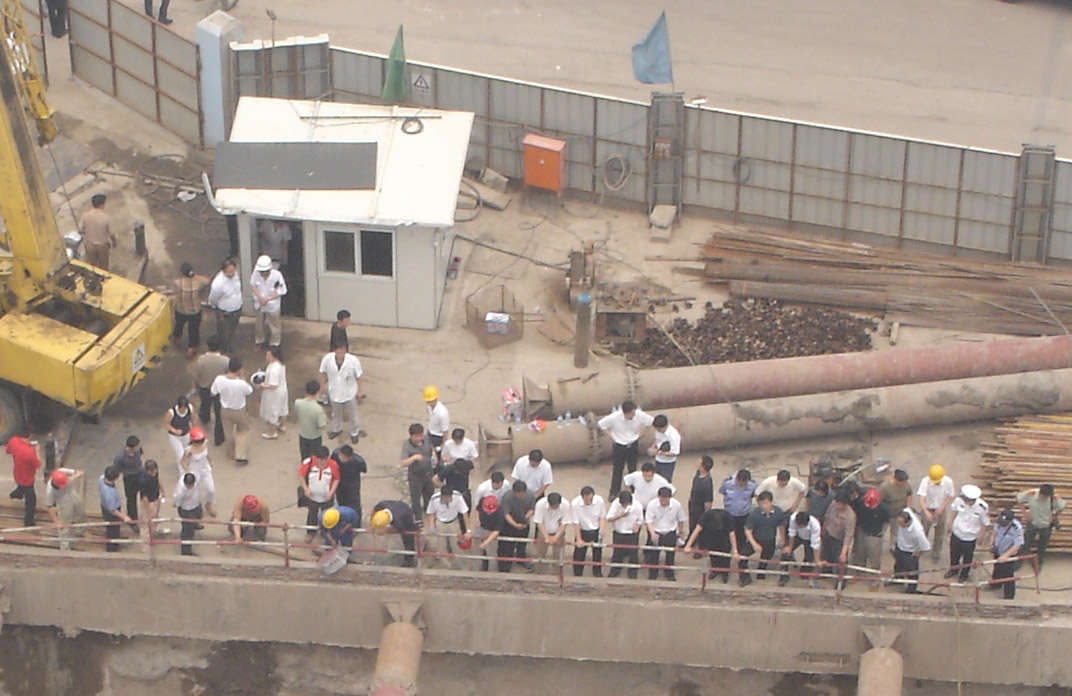none: (16, 420, 36, 442), (693, 454, 712, 474), (638, 462, 656, 482), (620, 400, 638, 420), (303, 379, 321, 399), (313, 444, 331, 464), (962, 483, 979, 504), (652, 412, 669, 433), (1036, 482, 1054, 501), (226, 357, 244, 376), (526, 448, 543, 468), (511, 480, 529, 498), (895, 509, 912, 528), (408, 422, 425, 441), (999, 505, 1015, 525), (757, 489, 773, 509), (890, 468, 907, 486), (579, 485, 596, 503), (331, 340, 347, 359), (206, 334, 222, 353), (834, 490, 849, 510), (657, 485, 672, 505), (617, 488, 632, 508), (489, 470, 504, 490), (265, 345, 282, 362), (178, 262, 195, 279), (546, 491, 562, 509), (221, 258, 237, 276), (776, 469, 791, 488), (793, 511, 809, 528), (337, 444, 353, 461), (103, 465, 119, 482), (143, 458, 159, 475), (736, 468, 751, 486), (336, 308, 351, 326), (453, 457, 468, 474), (91, 194, 106, 210), (815, 479, 829, 496), (451, 427, 465, 444), (439, 484, 453, 501), (125, 435, 139, 451), (183, 472, 196, 489), (176, 395, 189, 412)
red: (240, 493, 260, 513), (49, 470, 69, 490), (861, 488, 879, 509), (481, 494, 498, 514), (190, 426, 205, 446)
white: (254, 253, 273, 276)
yellow: (321, 506, 342, 529), (370, 510, 391, 533), (928, 463, 945, 483), (421, 385, 438, 405)
